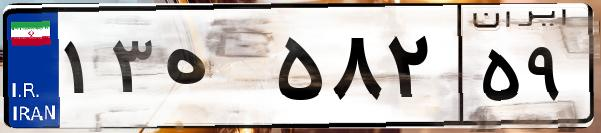1: (57, 26, 110, 100)
2: (385, 28, 445, 110)
3: (110, 28, 158, 98)
5: (270, 28, 330, 110), (475, 38, 525, 113)
8: (330, 28, 385, 110)
9: (525, 38, 570, 115)
ه: (158, 20, 270, 120)
